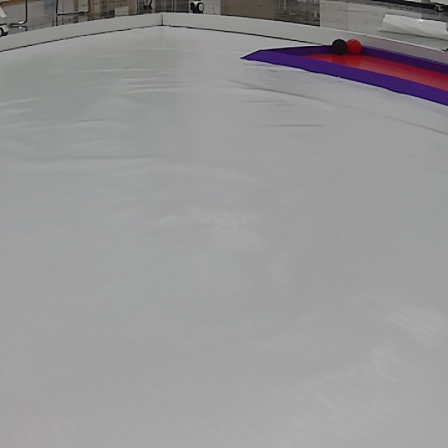black: (333, 40, 347, 54)
red: (344, 39, 364, 53)
red_aim: (241, 38, 448, 119)
